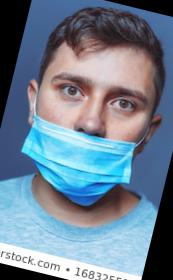mask_weared_incorrect: (21, 61, 159, 203)
